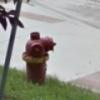a fire hydrant: (22, 31, 57, 86)
